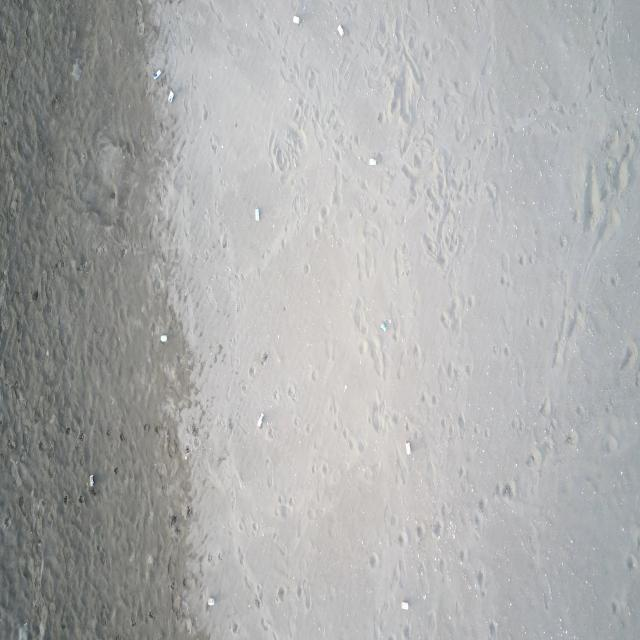tin-and-aluminum-cans: (167, 87, 175, 106), (336, 23, 346, 38), (256, 412, 264, 428), (404, 440, 411, 457), (152, 69, 162, 80), (254, 205, 260, 223), (380, 320, 389, 332), (208, 595, 215, 610), (292, 14, 301, 24), (90, 473, 95, 490), (160, 334, 168, 344), (401, 602, 409, 610), (369, 159, 376, 167)
